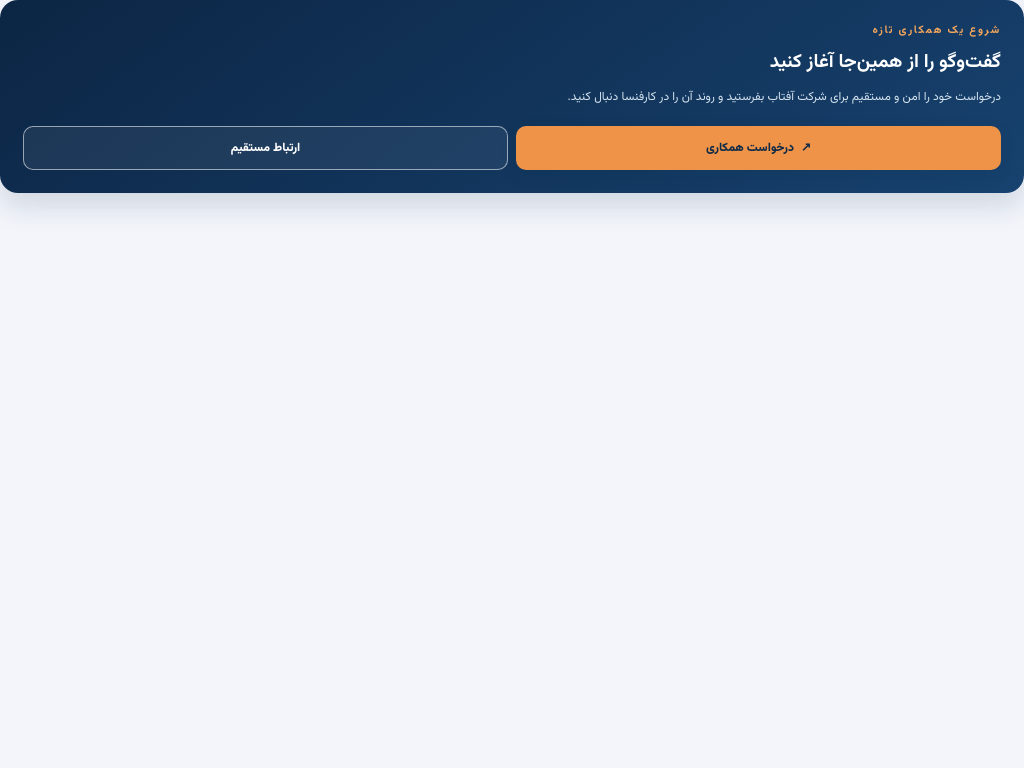
Test: collaboration request › shows success only after persistence and sends a single request for repeated clicks
Later steps or results of the test are not shown.
Click the button "↗ درخواست همکاری" at (758, 148), box 516,126 -> 1001,170
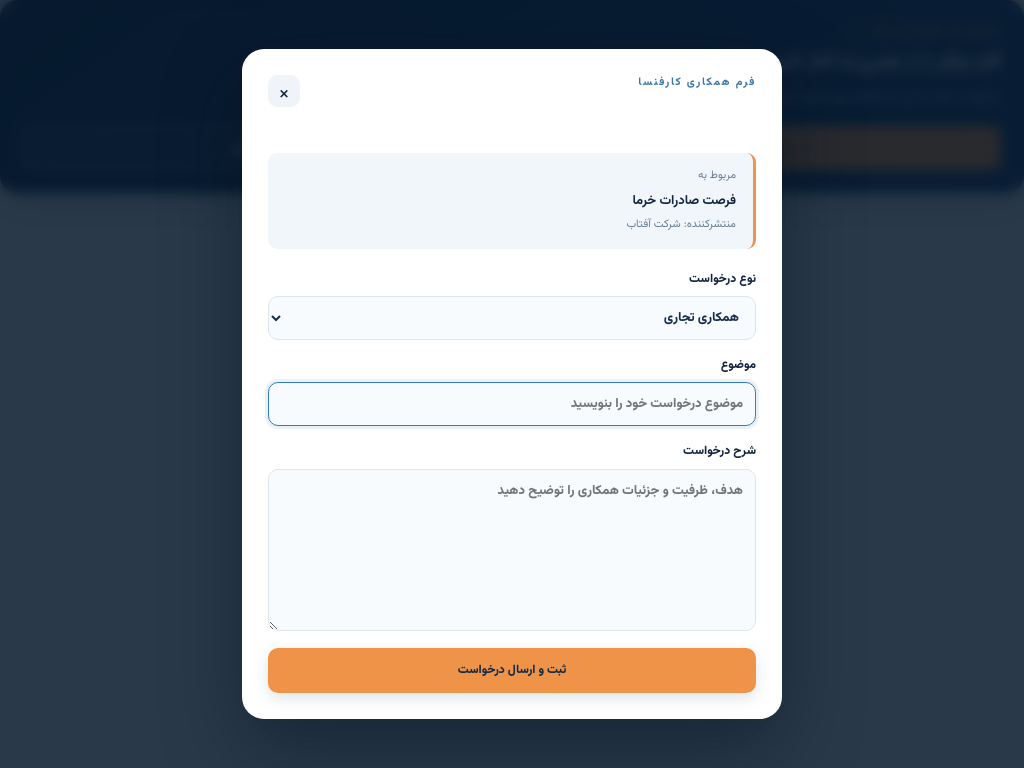
Type "همکاری صادراتی" into the field labelled "موضوع" at (512, 404), box 268,382 -> 756,426
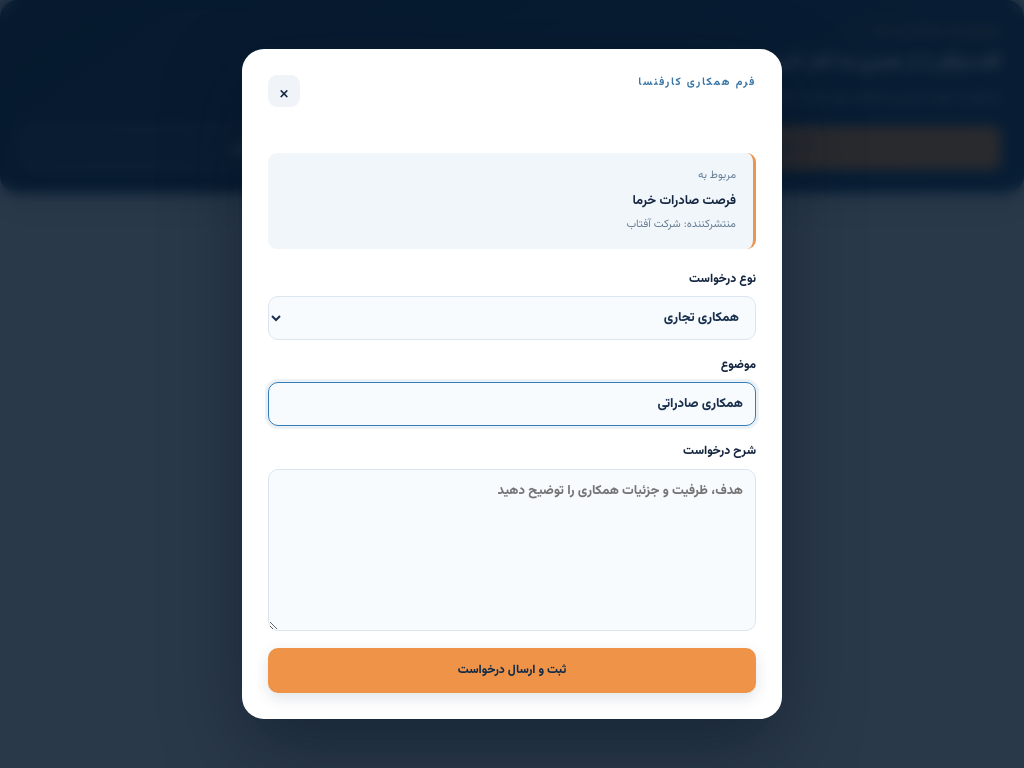
Type "برای همکاری در صادرات خرما آماده هستم." into the text box labelled "شرح درخواست" at (512, 550), box 268,469 -> 756,631
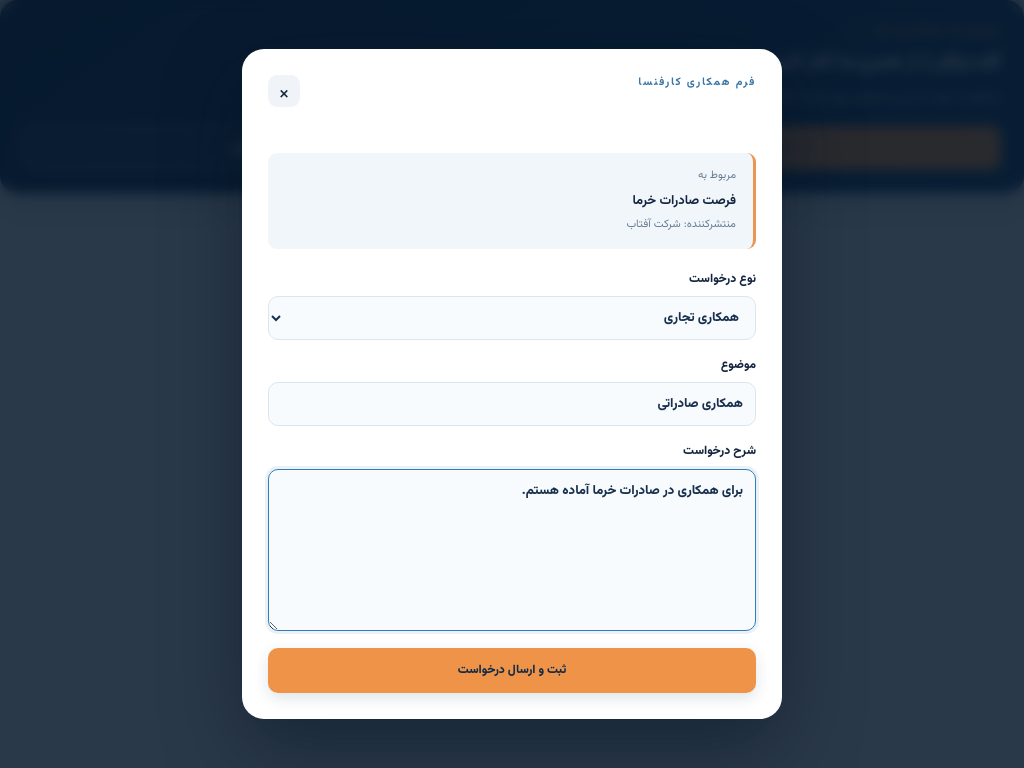
Click the button "ثبت و ارسال درخواست" at (512, 670), box 268,648 -> 756,692
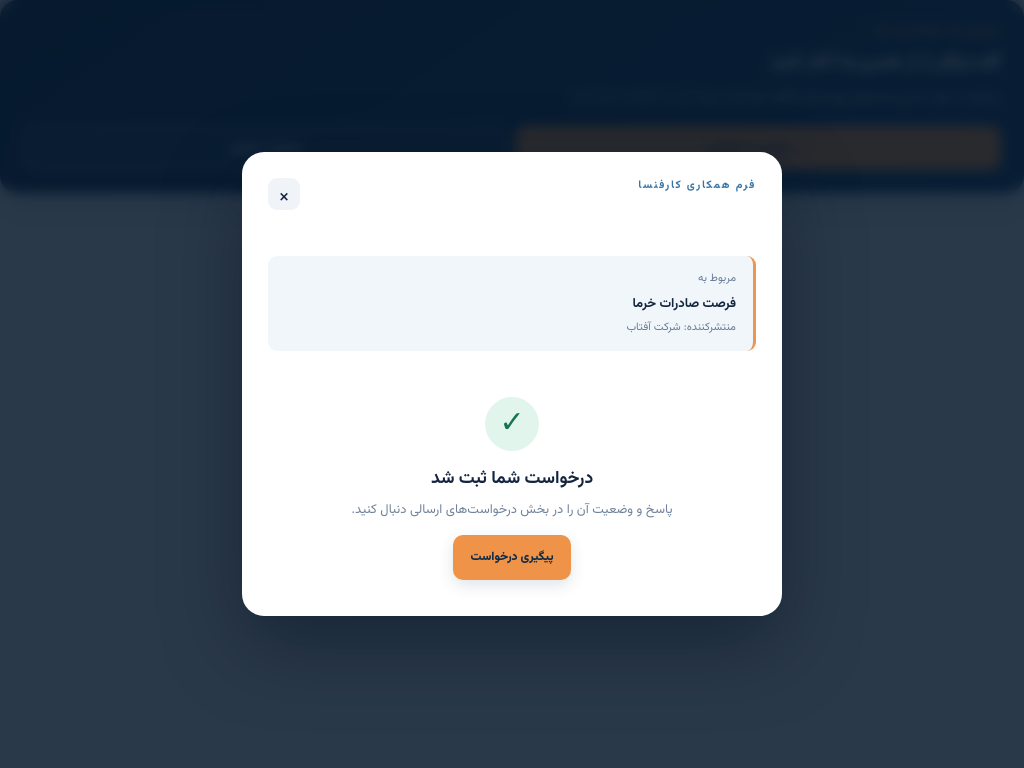
Expected: the heading "درخواست شما ثبت شد" is shown, 431,465 -> 593,492
